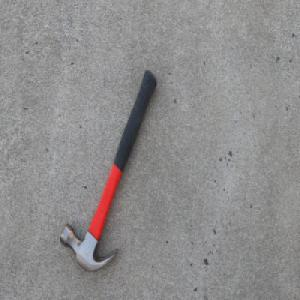Hammer: (59, 68, 157, 273)
